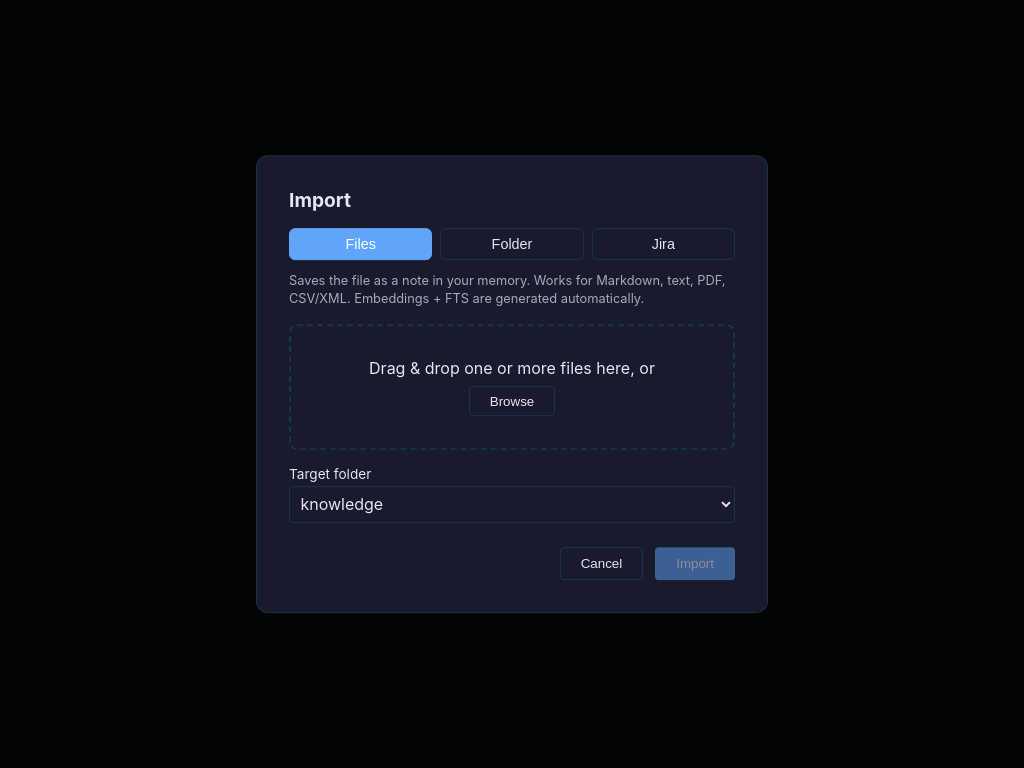
it: components/ImportDialog.vue › folder mode lists prior imports and reopens their completion controls
This screenshot has width=1024, height=768.
Step 1. Click the button with class "import-dialog__mode-btn" showing "Folder" → (512, 244), box [440, 228, 584, 260]
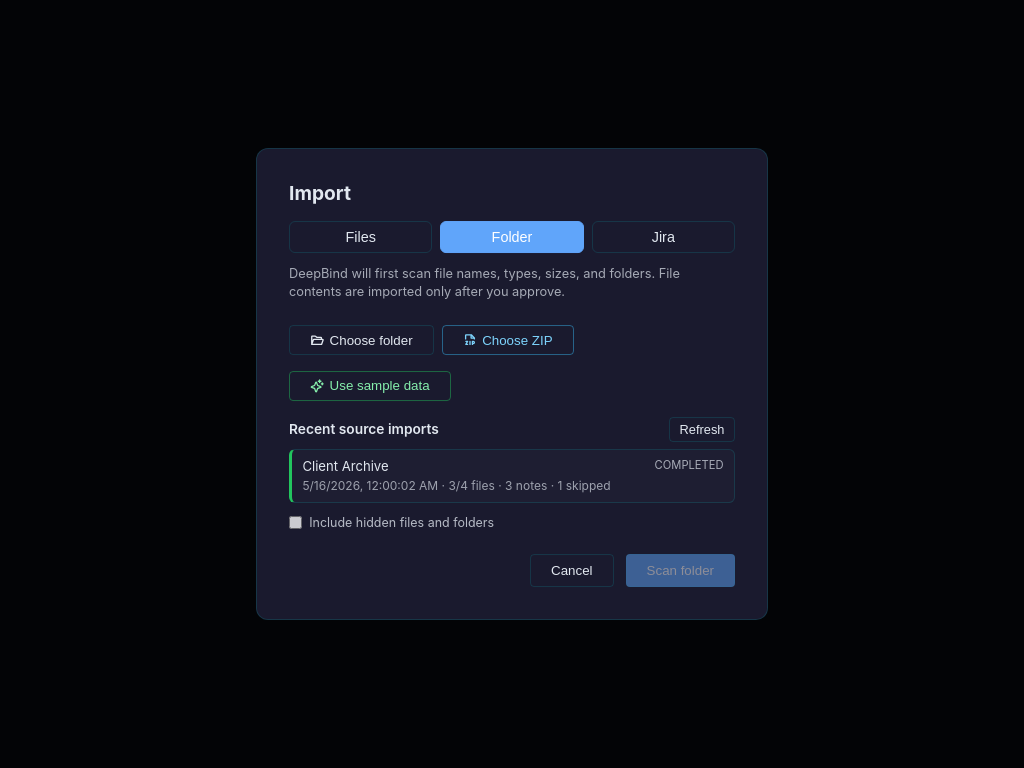
Expected: the text "Recent source imports" is shown, [289, 421, 439, 437]
Expected: the text "Client Archive" is shown, [302, 458, 389, 474]
Expected: the text "3/4 files" is shown, [302, 478, 551, 493]
Step 2. Click the button with class "import-dialog__folder-history-row" → (512, 476), box [289, 449, 735, 503]
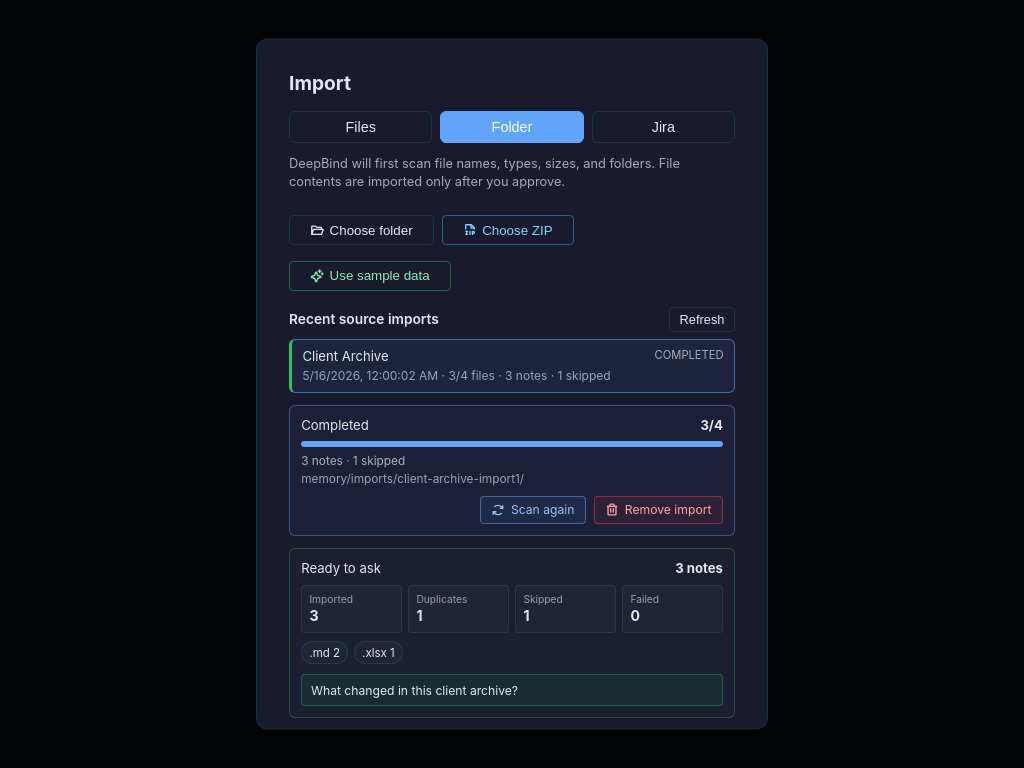
Expected: the text "Ready to ask" is shown, [301, 561, 381, 577]
Expected: the text "What changed in this client archive?" is shown, [301, 674, 723, 706]
Expected: the button with class "import-dialog__rescan-btn" is shown, [480, 496, 586, 524]
